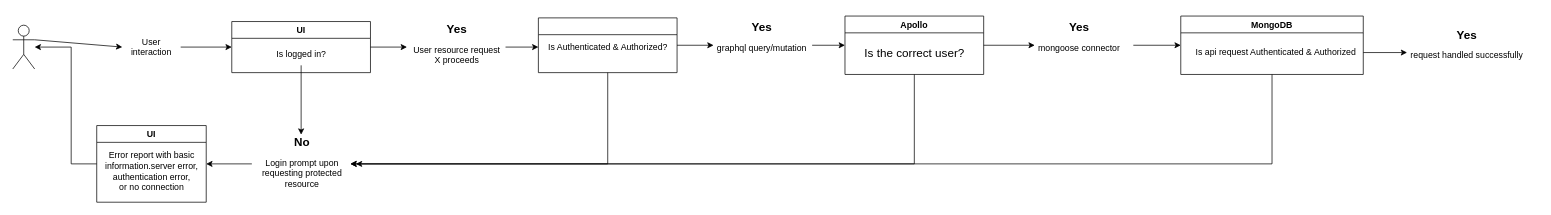
Image size: 1551x215. Some labels were removed from this diagram. The box of each missing label's shape, as (x1, y1, x2, y2) in pixels:
NextJS Api: (538, 17, 677, 73)
User: (12, 24, 35, 69)
